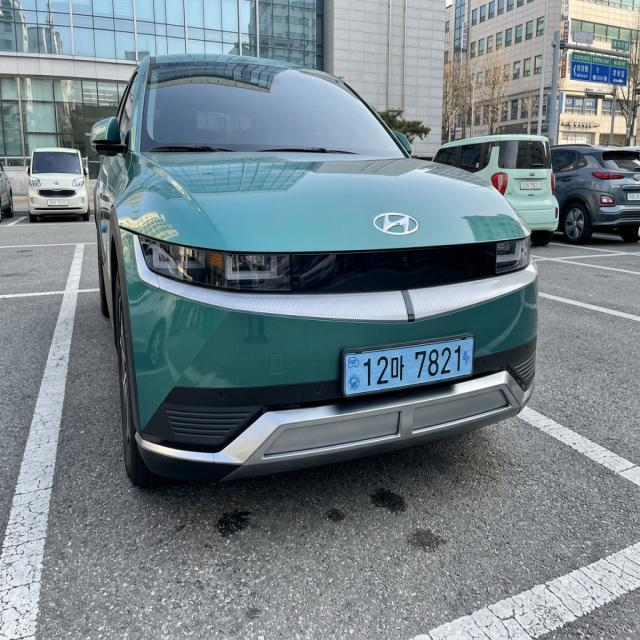car: (328, 325, 491, 406)
carev: (345, 352, 362, 396), (460, 338, 473, 381)
